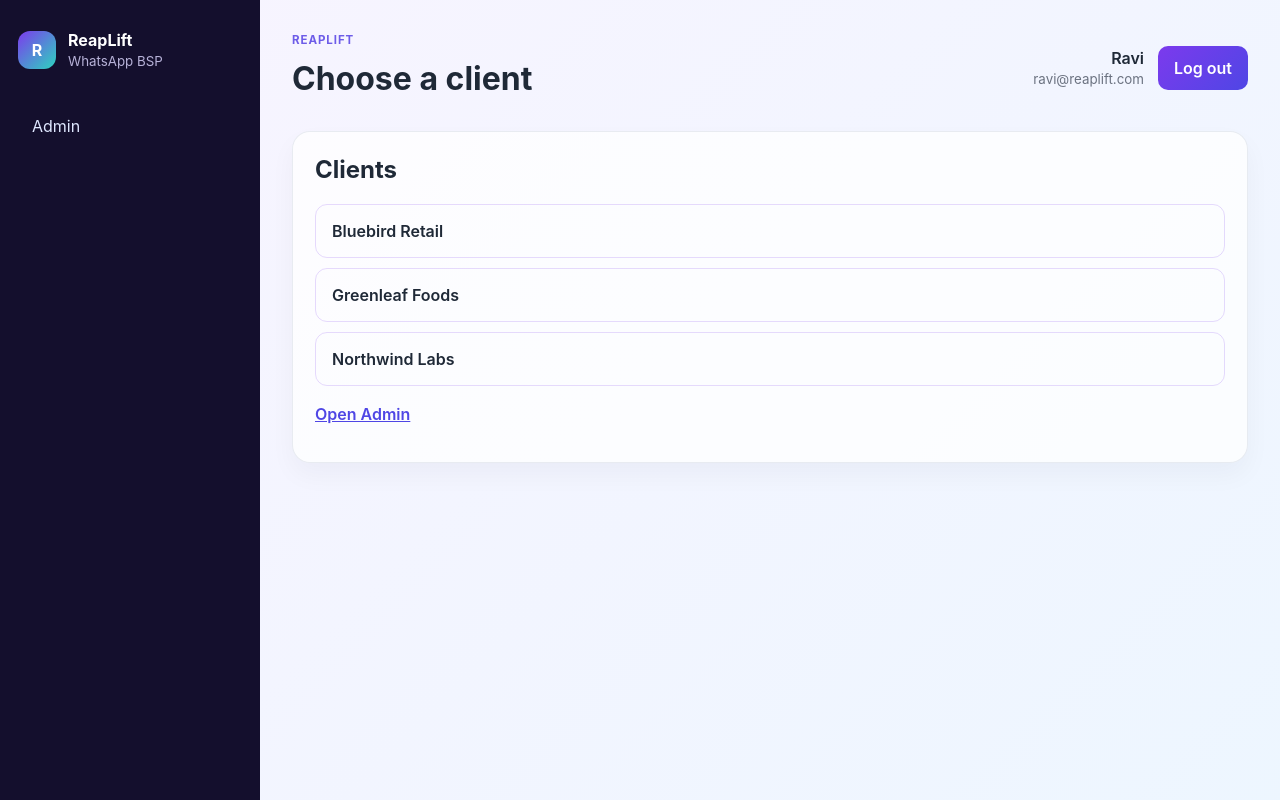
Test: the worked example: what each user sees › ravi@reaplift.com sees all three clients, Open Admin, and Admin in the menu
This screenshot has width=1280, height=800.
Step 1. Click the link "Open Admin" → (363,414), box top-left (315, 404), bottom-right (410, 424)
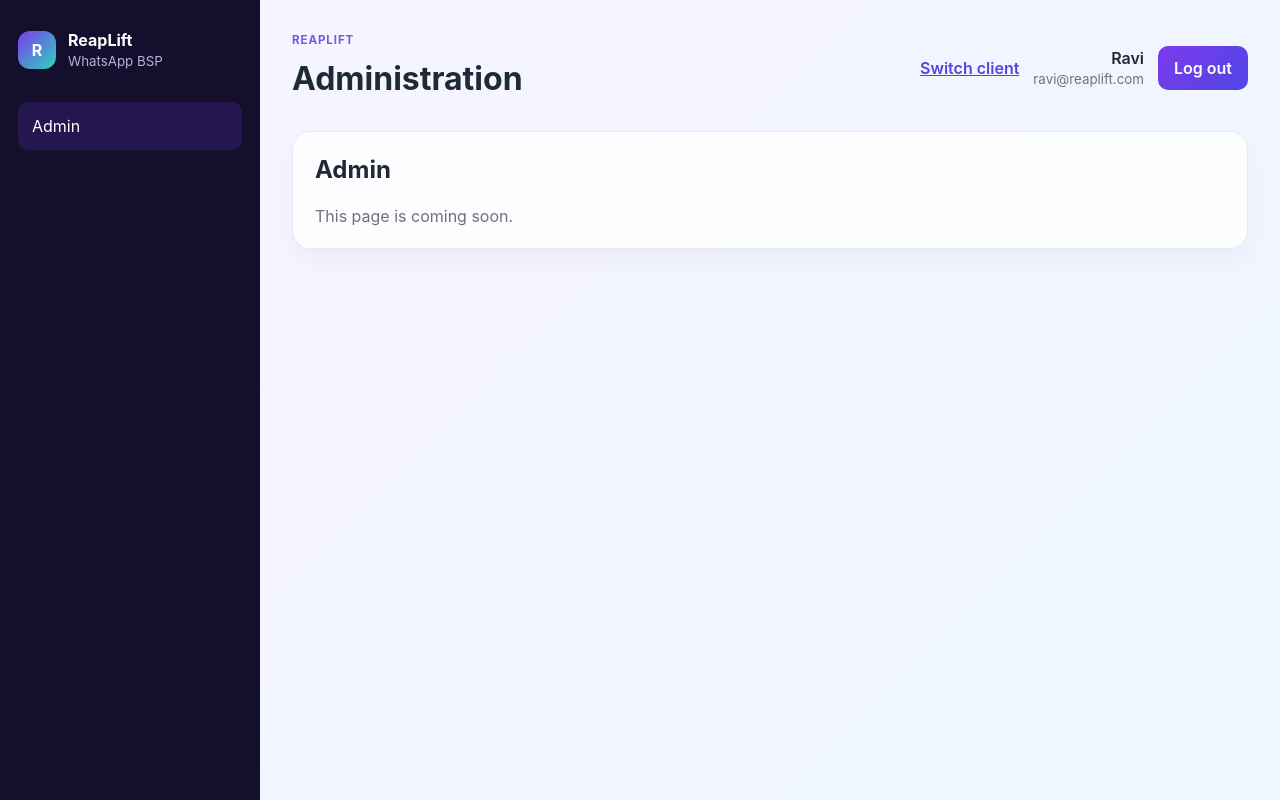
Check: the link "Admin" is shown, box top-left (18, 102), bottom-right (242, 150)
Check: the heading "Administration" is shown, box top-left (292, 55), bottom-right (522, 103)
Check: the text "This page is coming soon." is shown, box top-left (315, 206), bottom-right (513, 226)
